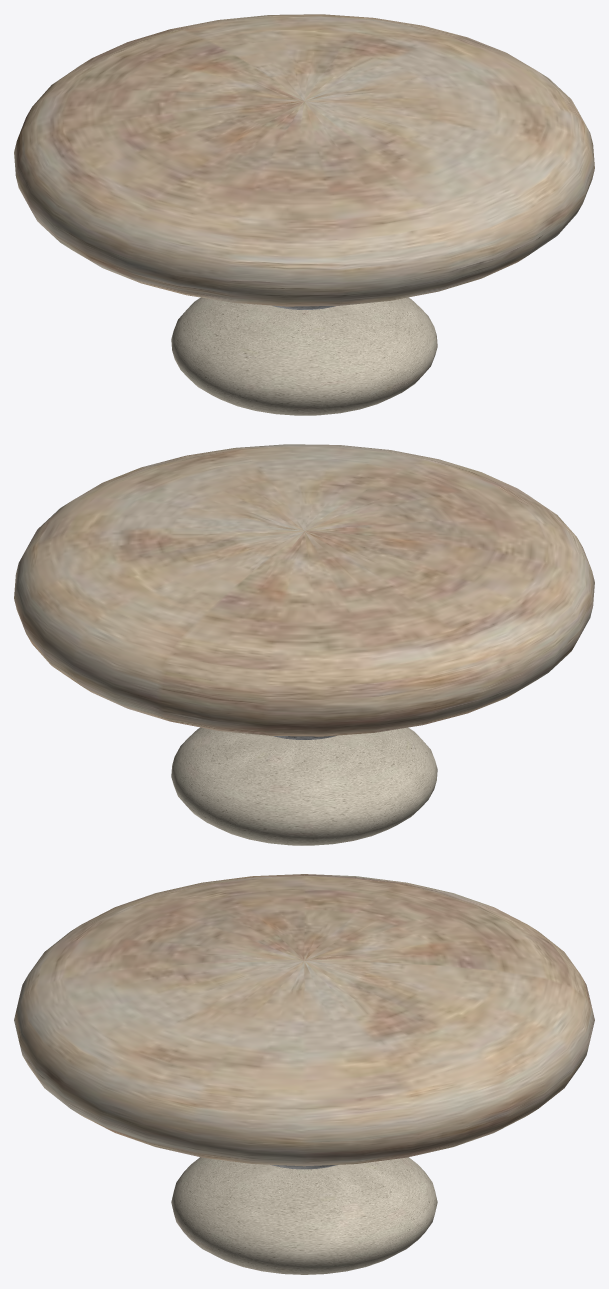
The model's file is seesaw_usami.fbx.
The picture shows the model from 3 angles, top to bottom: view 1: azimuth 30°, elevation 25°; view 2: azimuth 150°, elevation 25°; view 3: azimuth 270°, elevation 25°; orthographic projection.
Visible parts, largest first — view 1: Sphere002, Sphere003; view 2: Sphere002, Sphere003; view 3: Sphere002, Sphere003.
Part boxes in pixels (box(x1,y1,x2,y2)): Sphere002: box(14, 14, 594, 306); Sphere003: box(171, 297, 437, 415); Sphere002: box(14, 444, 594, 736); Sphere003: box(171, 727, 437, 845); Sphere002: box(14, 874, 594, 1166); Sphere003: box(171, 1157, 437, 1274).
Bounding box in the file's own units: 42.29 × 23.11 × 42.29.
Materials: 3 (3 with a texture image).
